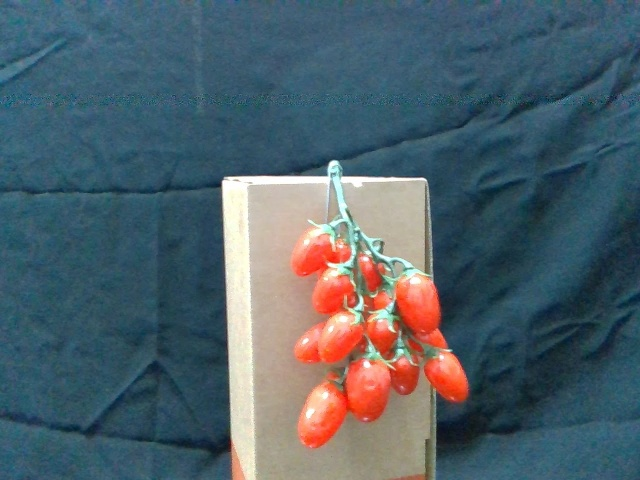tomato: (294, 377, 349, 448), (396, 268, 444, 333), (346, 355, 391, 420), (424, 350, 469, 404), (296, 222, 340, 276), (322, 308, 365, 361), (316, 263, 357, 314), (391, 343, 422, 397), (370, 307, 401, 356)
